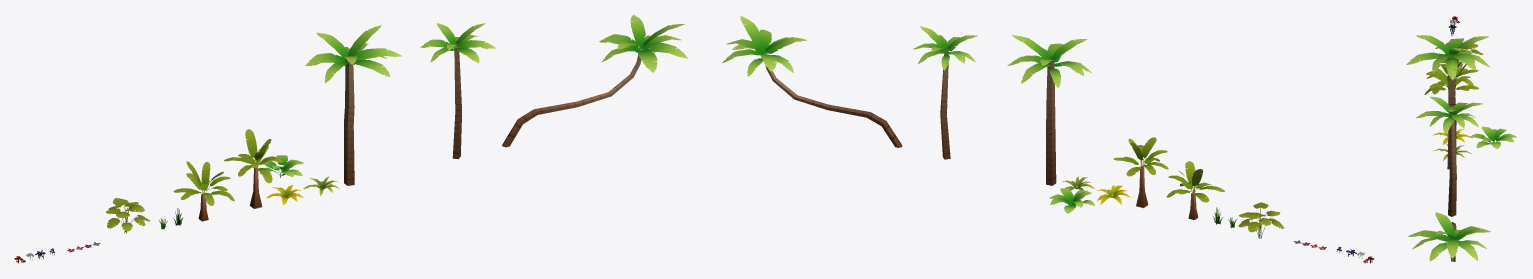
Rendered from Nature.fbx.
3 renders of one model, left to right at view 1: azimuth 30°, elevation 25°; view 2: azimuth 150°, elevation 25°; view 3: azimuth 270°, elevation 25°, orthographic. The views are drawn at different scales.
Parts seen in each view (by area): view 1: PalmTree_02, PalmTree_03, PalmTree_01, BananaTree_01, BananaTree_02, Plane.04, Plant_05; view 2: PalmTree_03, PalmTree_02, PalmTree_01, BananaTree_01, BananaTree_02, Plane.04, Plant_05; view 3: PalmTree_02, PalmTree_01, PalmTree_03, Plant_05, BananaTree_01, BananaTree_02, Plane.04, Plant_02, Plant_03.
Boxes of the visible parts, x1,y1,x2,y2 form: PalmTree_02: (305, 25, 401, 185); PalmTree_03: (502, 14, 687, 147); PalmTree_01: (420, 23, 496, 159); BananaTree_01: (224, 129, 282, 208); BananaTree_02: (173, 161, 234, 221); Plane.04: (106, 198, 150, 233); Plant_05: (259, 155, 303, 177); PalmTree_03: (722, 16, 902, 147); PalmTree_02: (1007, 35, 1091, 185); PalmTree_01: (913, 26, 977, 159); BananaTree_01: (1113, 137, 1168, 208); BananaTree_02: (1166, 161, 1224, 219); Plane.04: (1238, 202, 1283, 238); Plant_05: (1049, 188, 1094, 213); PalmTree_02: (1406, 35, 1489, 169); PalmTree_01: (1415, 96, 1483, 216); PalmTree_03: (1408, 212, 1490, 261); Plant_05: (1469, 126, 1516, 149); BananaTree_01: (1424, 64, 1478, 95); BananaTree_02: (1426, 50, 1478, 94); Plane.04: (1442, 42, 1483, 69); Plant_02: (1433, 129, 1472, 144); Plant_03: (1433, 143, 1471, 160).
Bounding box in the file's own units: 25.07 × 5.29 × 4.18.
